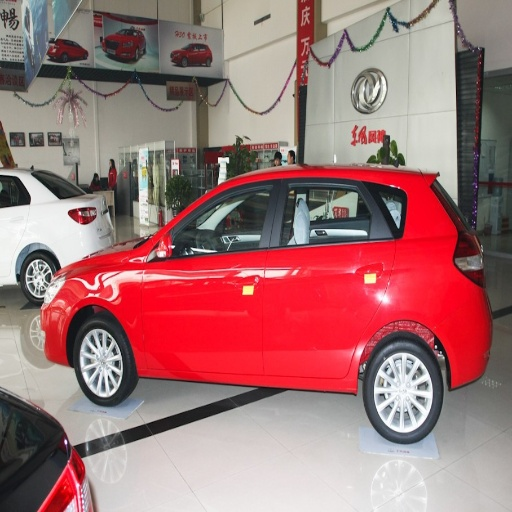back_bumper: (443, 318, 490, 384)
back_left_door: (266, 177, 398, 377)
